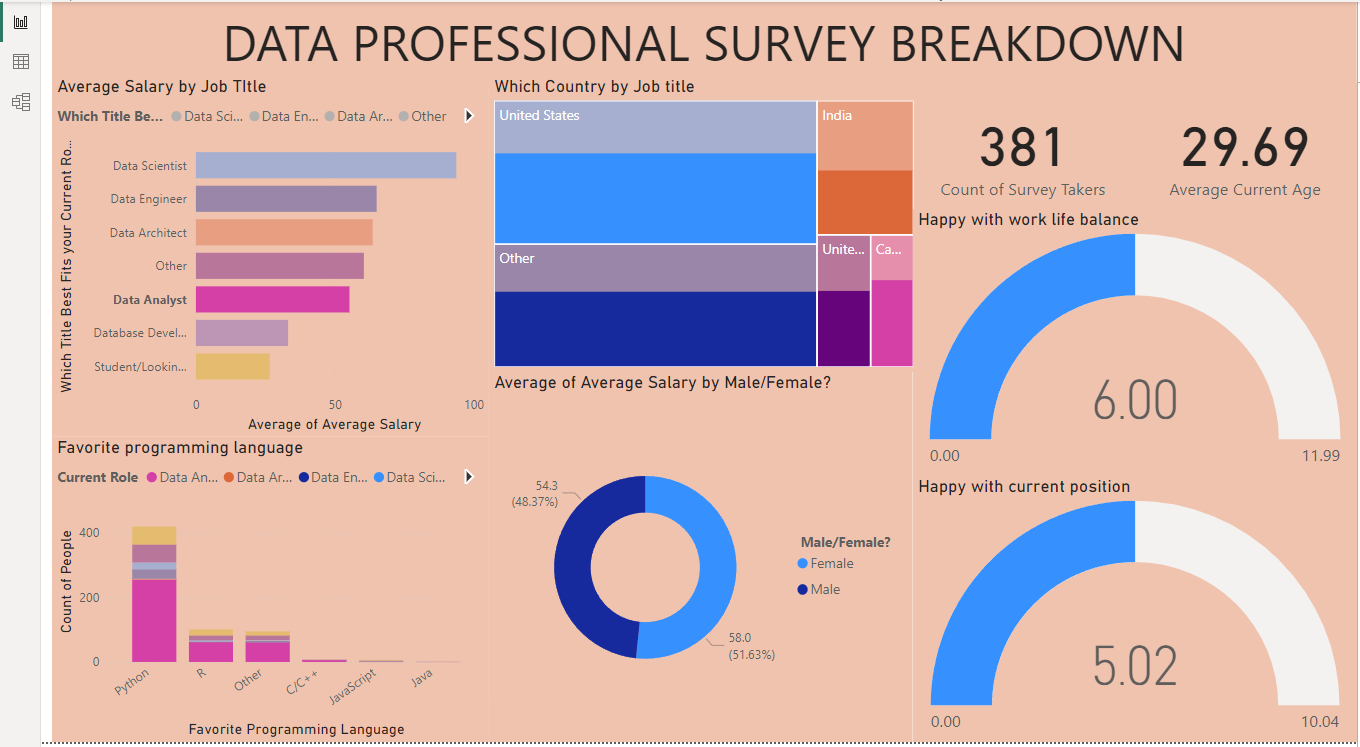

What the dashboard file says about the page in this screenshot:
{"tool":"powerbi","page":{"name":"Page 1","canvas":[1280,720],"ordinal":0},"visuals":[{"type":"textbox","box":[11,0,1269,79],"z":0},{"type":"card","fields":{"Values":["Count(Data Professional Survey.Unique ID)"]},"box":[854,78.8,208.1,130.3],"z":1},{"type":"card","fields":{"Values":["Avg(Data Professional Survey.Q10 - Current Age)"]},"box":[1062.1,78.8,217.9,130.3],"z":2},{"type":"barChart","title":"Average Salary by Job TItle","fields":{"Category":["Data Professional Survey.Q1 - Which Title Best Fits your Current Role?.1"],"Y":["Avg(Data Professional Survey.Average Salary)"],"Series":["Data Professional Survey.Q1 - Which Title Best Fits your Current Role?.1"]},"box":[10.7,72,441.6,351.1],"z":3},{"type":"columnChart","title":"Favorite programming language","fields":{"Category":["Data Professional Survey.Q5 - Favorite Programming Language.1"],"Y":["CountNonNull(Data Professional Survey.Unique ID)"],"Series":["Data Professional Survey.Q1 - Which Title Best Fits your Current Role?.1"]},"box":[10.2,423.3,442,297],"z":4},{"type":"treemap","title":"Which Country by Job title","fields":{"Group":["Data Professional Survey.Q11 - Which Country do you live in?.1"],"Values":["CountNonNull(Data Professional Survey.Q1 - Which Title Best Fits your Current Role?.1)"]},"box":[435.7,72,418.2,287.9],"z":5},{"type":"gauge","title":"Happy with work life balance","fields":{"Y":["Avg(Data Professional Survey.Q6 - How Happy are you in your Current Position with the following? (Work/Life Balance))"]},"box":[848.1,209.1,431.9,251.9],"z":6},{"type":"gauge","title":"Happy with current position","fields":{"Y":["Avg(Data Professional Survey.Q6 - How Happy are you in your Current Position with the following? (Upward Mobility))"]},"box":[848.1,461,431.9,258.7],"z":7},{"type":"donutChart","fields":{"Category":["Data Professional Survey.Q9 - Male/Female?"],"Y":["Avg(Data Professional Survey.Average Salary)"]},"box":[435.6,359.7,412.3,360.5],"z":8}]}

Visuals, with their boxes on the page's 1280x720 design canvas (x1, y1, x2, y2). These are canvas units, not pixel positions in the 1360x747 screenshot, which may show the page scaled, cropped or inside an application window:
textbox: bbox=[11, 0, 1280, 79]
card - Count(Data Professional Survey.Unique ID): bbox=[854, 79, 1062, 209]
card - Avg(Data Professional Survey.Q10 - Current Age): bbox=[1062, 79, 1280, 209]
"Average Salary by Job TItle" barChart: bbox=[11, 72, 452, 423]
"Favorite programming language" columnChart: bbox=[10, 423, 452, 720]
"Which Country by Job title" treemap: bbox=[436, 72, 854, 360]
"Happy with work life balance" gauge: bbox=[848, 209, 1280, 461]
"Happy with current position" gauge: bbox=[848, 461, 1280, 720]
donutChart - Data Professional Survey.Q9 - Male/Female? x Avg(Data Professional Survey.Average Salary): bbox=[436, 360, 848, 720]
